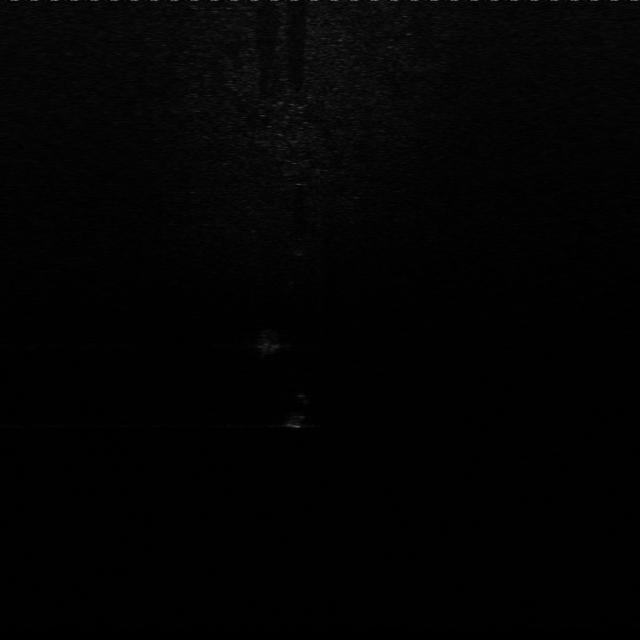ball: (289, 243, 312, 258)
circle cage: (247, 320, 294, 359)
tyre: (277, 389, 324, 432)
